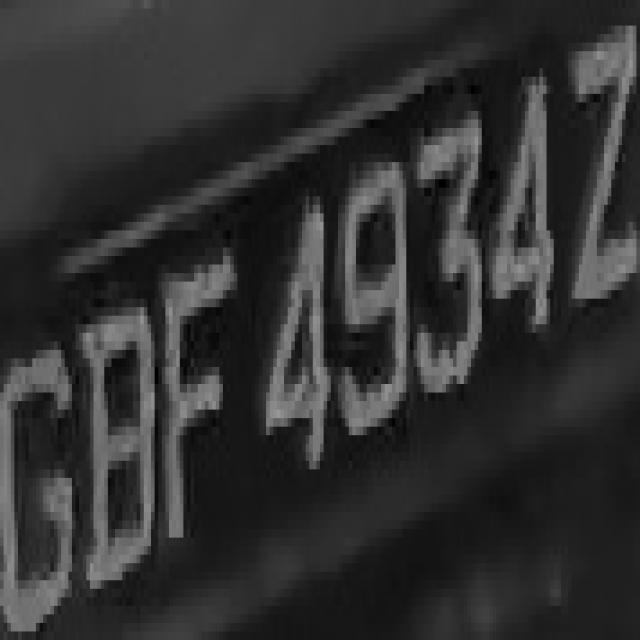3: (410, 68, 482, 401)
4: (482, 60, 561, 358), (259, 188, 334, 478)
9: (330, 162, 420, 452)
B: (86, 273, 90, 282)
F: (155, 222, 230, 555)
G: (11, 299, 82, 623)
Z: (557, 17, 640, 333)
